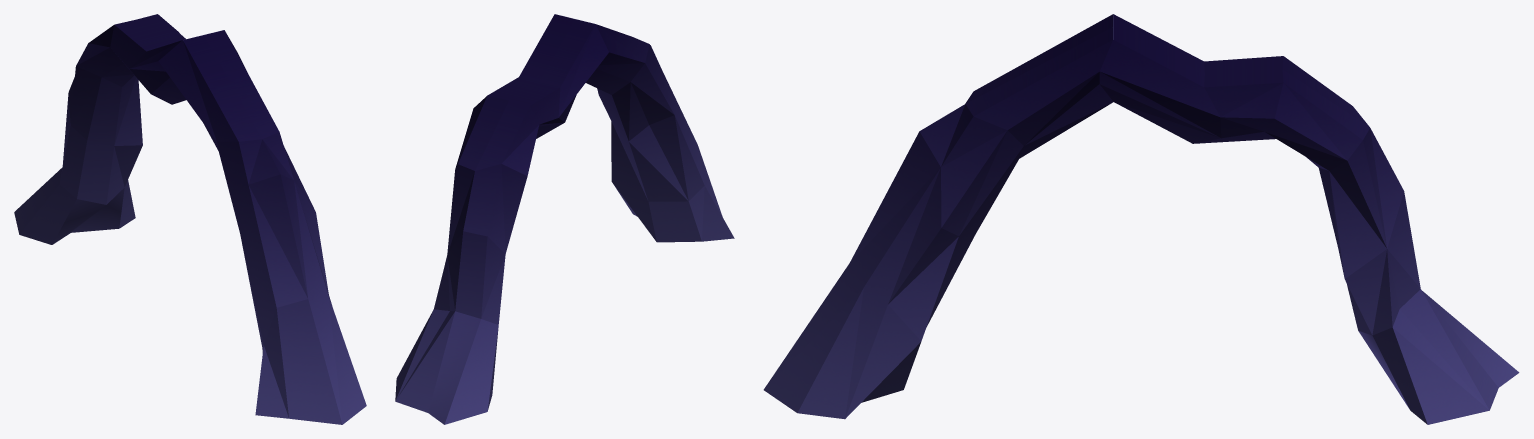
Rendered from MOD_Waypoint (4).fbx.
The picture shows the model from 3 angles, left to right: view 1: azimuth 30°, elevation 25°; view 2: azimuth 150°, elevation 25°; view 3: azimuth 270°, elevation 25°; orthographic projection. The views are drawn at different scales.
Visible parts, largest first — view 1: MOD_Waypoint4; view 2: MOD_Waypoint4; view 3: MOD_Waypoint4.
Boxes of the visible parts, x1,y1,x2,y2 form: MOD_Waypoint4: (14,14,366,424); MOD_Waypoint4: (395,14,734,424); MOD_Waypoint4: (763,14,1519,424).
Size of the model in its own units: 2.19 by 5.37 by 10.14.
